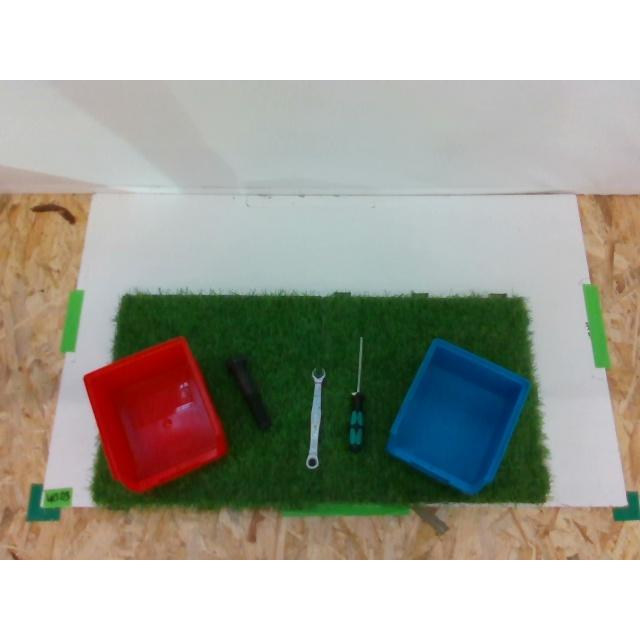F20_20_B: (226, 356, 270, 428)
Screwdriver: (347, 336, 365, 452)
Wrench: (305, 369, 325, 469)
container_box_blue: (386, 338, 530, 494)
container_box_red: (84, 336, 228, 492)
